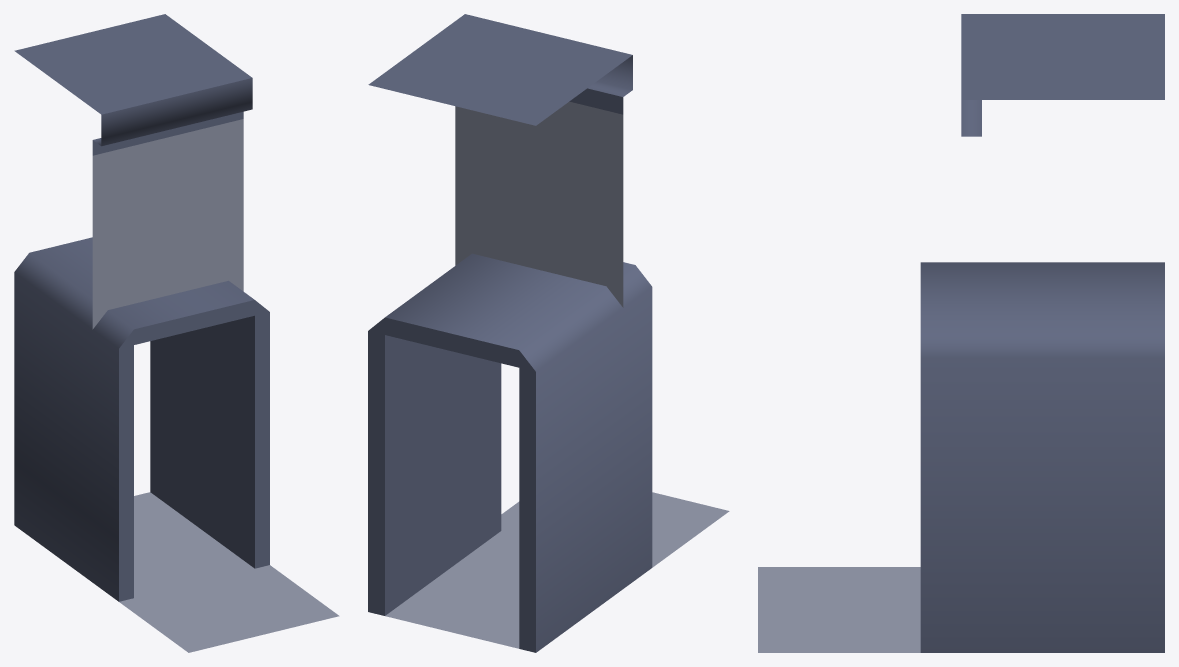
The model's file is StructureDoorway-transformed.glb.
3 renders of one model, left to right at view 1: azimuth 30°, elevation 25°; view 2: azimuth 150°, elevation 25°; view 3: azimuth 270°, elevation 25°, orthographic. The views are drawn at different scales.
Parts seen in each view (by area): view 1: structure-doorway; view 2: structure-doorway; view 3: structure-doorway.
Part boxes in pixels (x1,y1,x2,y2): structure-doorway: [14, 14, 339, 652]; structure-doorway: [368, 14, 729, 652]; structure-doorway: [758, 14, 1164, 652].
Bounding box in the file's own units: 1 × 3 × 2.
